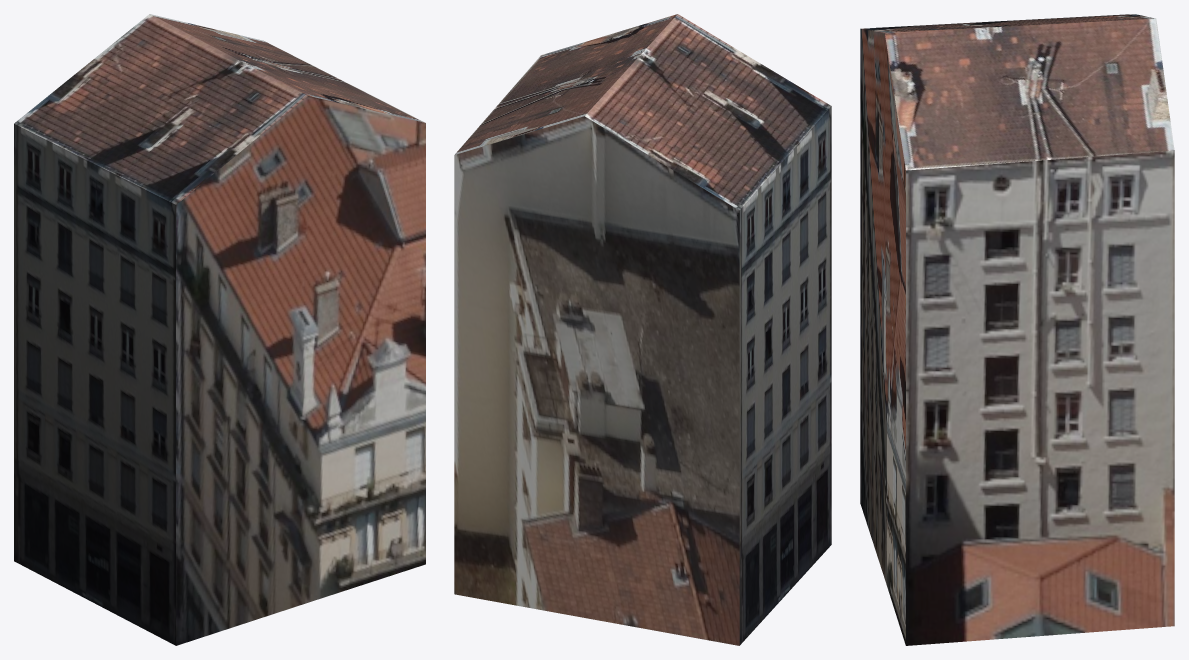
The picture shows the model from 3 angles, left to right: view 1: azimuth 30°, elevation 25°; view 2: azimuth 150°, elevation 25°; view 3: azimuth 270°, elevation 25°; orthographic projection. The views are drawn at different scales.
Parts seen in each view (by area): view 1: Z_UP; view 2: Z_UP; view 3: Z_UP.
Boxes of the visible parts, x1,y1,x2,y2 form: Z_UP: (14,14,425,645); Z_UP: (454,14,831,645); Z_UP: (860,14,1174,645).
Size of the model in its own units: 17.03 by 26.98 by 14.08.
Materials: 2 (1 with a texture image).
